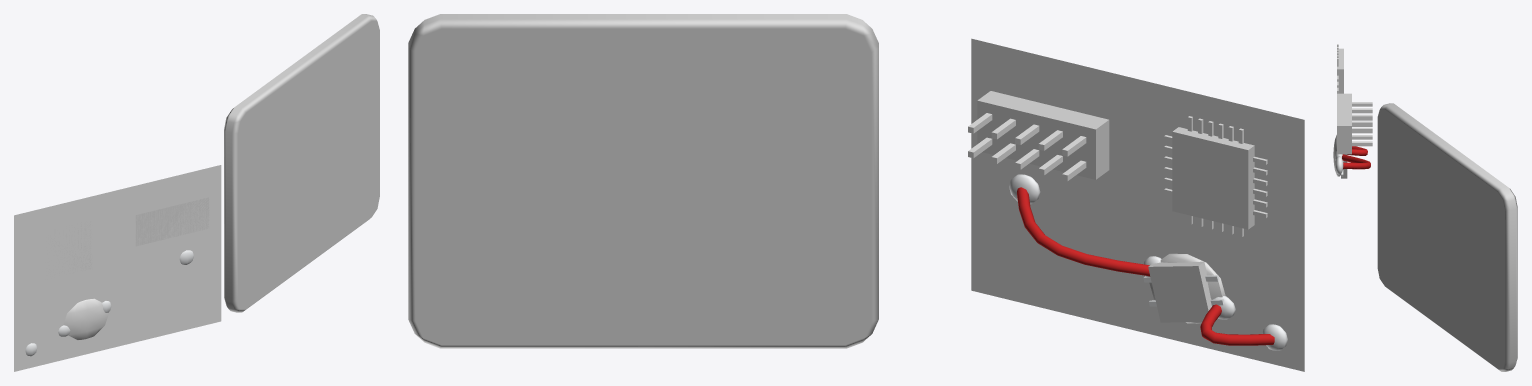
File: NavBeacon_Port.fbx
3 views of the same model, side by side, from view 1: azimuth 30°, elevation 25°; view 2: azimuth 150°, elevation 25°; view 3: azimuth 270°, elevation 25° (orthographic). The views are drawn at different scales.
Visible parts, largest first — view 1: Beacon_PortCover, Beacon_PCB, Beacon_HeaderBase, Beacon_RogueGlue, Beacon_FreshSolder; view 2: Beacon_PortCover, Beacon_PCB, Beacon_U7, Beacon_HeaderBase, Beacon_RogueChip, Beacon_HeaderPins, Beacon_JumperA, Beacon_U7Pins, Beacon_FreshSolder, Beacon_JumperB, Beacon_RogueGlue; view 3: Beacon_PortCover, Beacon_HeaderBase, Beacon_HeaderPins, Beacon_JumperA, Beacon_U7.
Boxes of the visible parts, box(x1,y1,x2,y2) form: Beacon_PortCover: box(224, 14, 379, 312); Beacon_PCB: box(14, 165, 221, 371); Beacon_HeaderBase: box(135, 197, 209, 246); Beacon_RogueGlue: box(63, 298, 108, 339); Beacon_FreshSolder: box(25, 250, 193, 356); Beacon_PortCover: box(408, 14, 878, 348); Beacon_PCB: box(971, 38, 1304, 371); Beacon_U7: box(1172, 127, 1254, 229); Beacon_HeaderBase: box(977, 91, 1109, 179); Beacon_RogueChip: box(1148, 261, 1211, 322); Beacon_HeaderPins: box(968, 113, 1086, 181); Beacon_JumperA: box(1017, 187, 1149, 276); Beacon_U7Pins: box(1164, 116, 1267, 236); Beacon_FreshSolder: box(1009, 174, 1287, 350); Beacon_JumperB: box(1200, 304, 1274, 345); Beacon_RogueGlue: box(1149, 253, 1225, 323); Beacon_PortCover: box(1377, 103, 1517, 371); Beacon_HeaderBase: box(1337, 93, 1351, 154); Beacon_HeaderPins: box(1352, 102, 1372, 146); Beacon_JumperA: box(1342, 154, 1370, 169); Beacon_U7: box(1337, 48, 1343, 93).
Bounding box in the file's own units: 0.08 × 0.034 × 0.0309.
